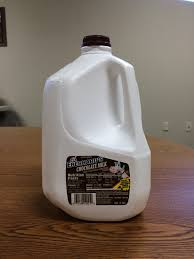milk: (37, 34, 155, 220)
